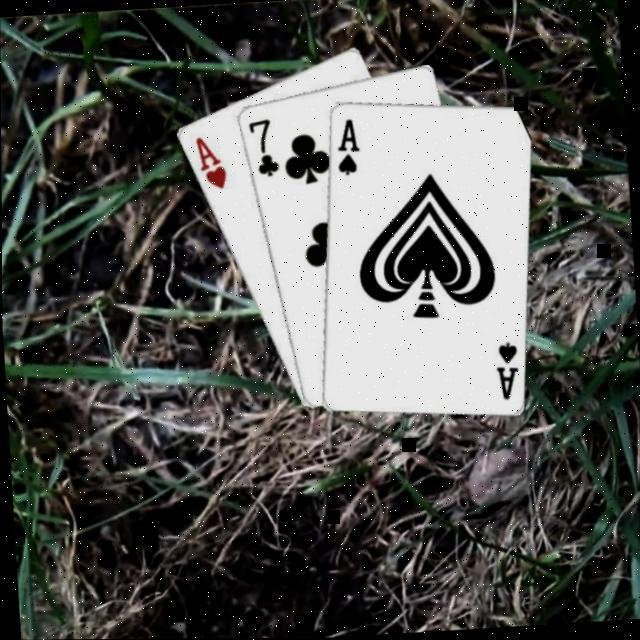7C: (243, 116, 280, 181)
AH: (190, 133, 227, 193)
AS: (489, 340, 520, 404), (330, 116, 361, 179)
